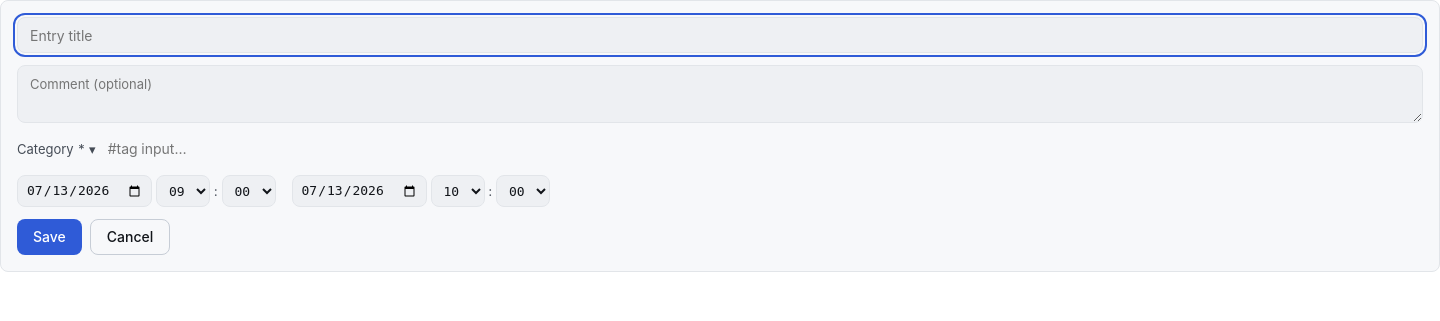
Scenario: ManualEntryForm › rejects submit with no category and shows an error
Type "Write docs" into the field named "Manual entry title" at (720, 35), box [17, 17, 1423, 53]
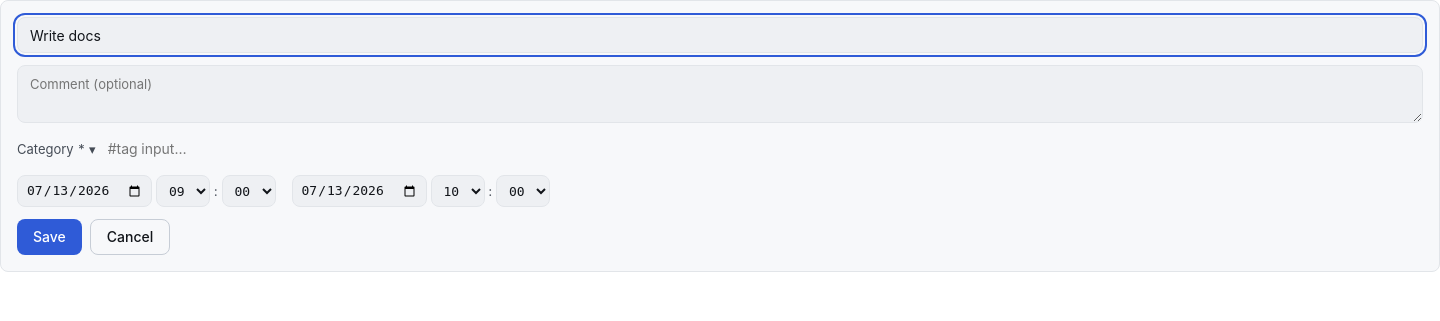
Click the button "Save" at (49, 237), box [17, 219, 82, 255]
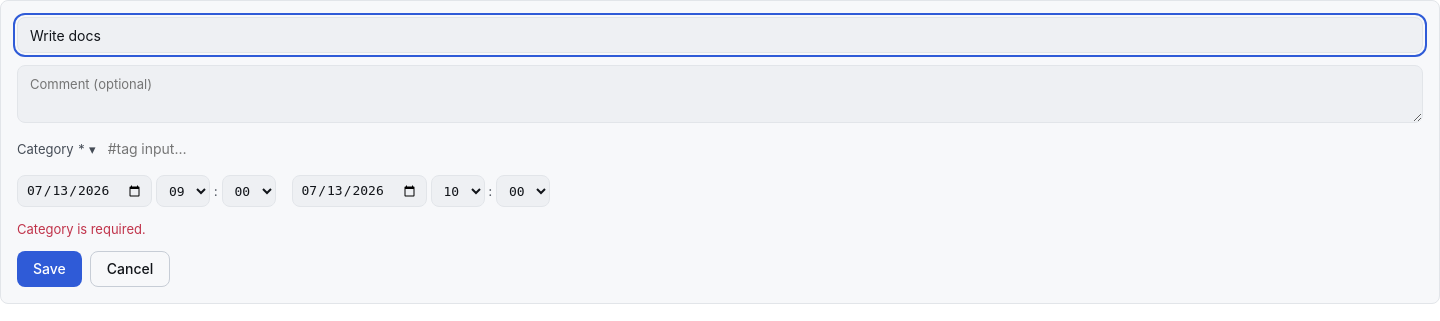
Result: the message reads "Category is required." at [17, 221, 145, 237]
